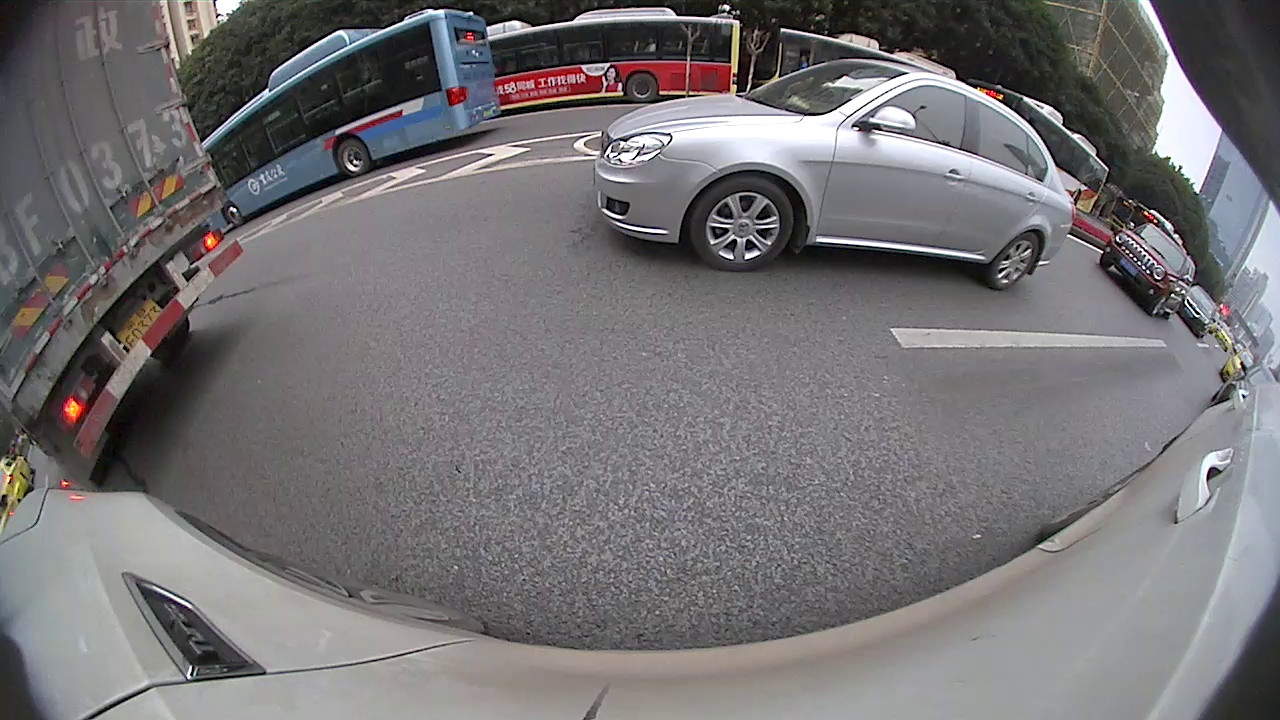bus: (202, 9, 492, 231), (482, 8, 741, 100), (966, 80, 1112, 218), (762, 27, 956, 84)
car: (591, 58, 1076, 293), (1098, 221, 1197, 320), (1178, 290, 1223, 339)
front: (687, 172, 795, 273), (223, 204, 244, 228)
rear: (983, 231, 1041, 292), (336, 137, 371, 179), (625, 71, 658, 101)
truck: (1, 2, 248, 494)
